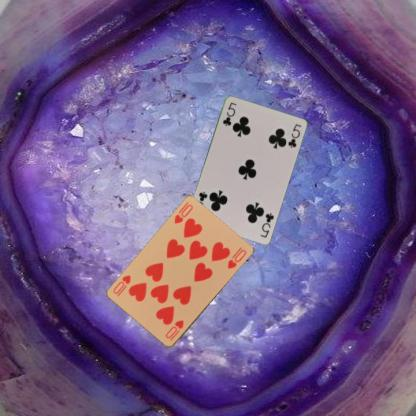10h: (163, 318, 185, 342), (172, 202, 194, 225)
5c: (220, 99, 238, 127), (258, 209, 275, 238)
